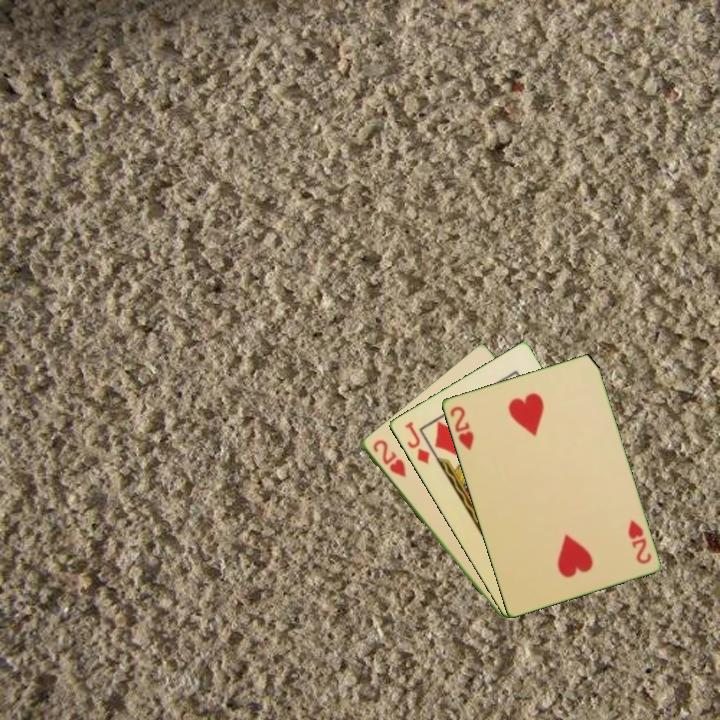2h: (369, 436, 409, 481), (624, 515, 654, 567), (446, 402, 476, 453)
Jd: (401, 418, 432, 467)
